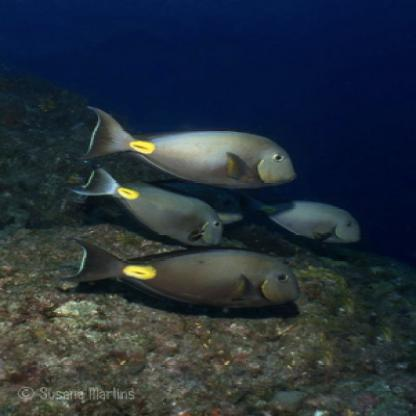Bio: (81, 104, 298, 188), (64, 235, 302, 308), (78, 160, 222, 248), (235, 192, 361, 242)
